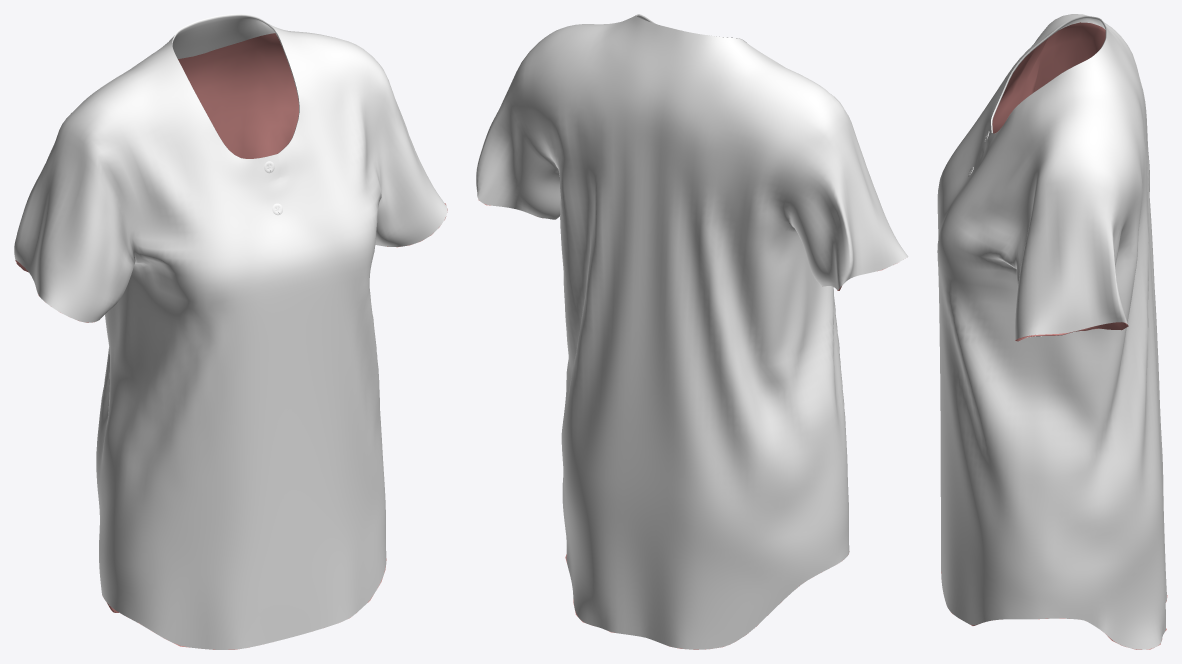
3 views of the same model, side by side, from view 1: azimuth 30°, elevation 25°; view 2: azimuth 150°, elevation 25°; view 3: azimuth 270°, elevation 25° (orthographic).
Parts seen in each view (by area): view 1: 756S2X; view 2: 756S2X; view 3: 756S2X.
Boxes of the visible parts, x1,y1,x2,y2 form: 756S2X: (14, 14, 447, 649); 756S2X: (476, 14, 908, 649); 756S2X: (937, 14, 1167, 649).
Bounding box in the file's own units: 0.6966 × 0.9793 × 0.3504.
